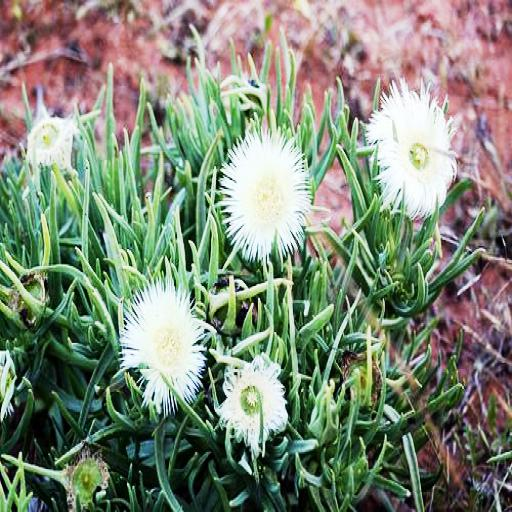daisy: (368, 88, 456, 209), (123, 291, 202, 409), (225, 140, 307, 249), (224, 361, 281, 437), (24, 114, 74, 163)
